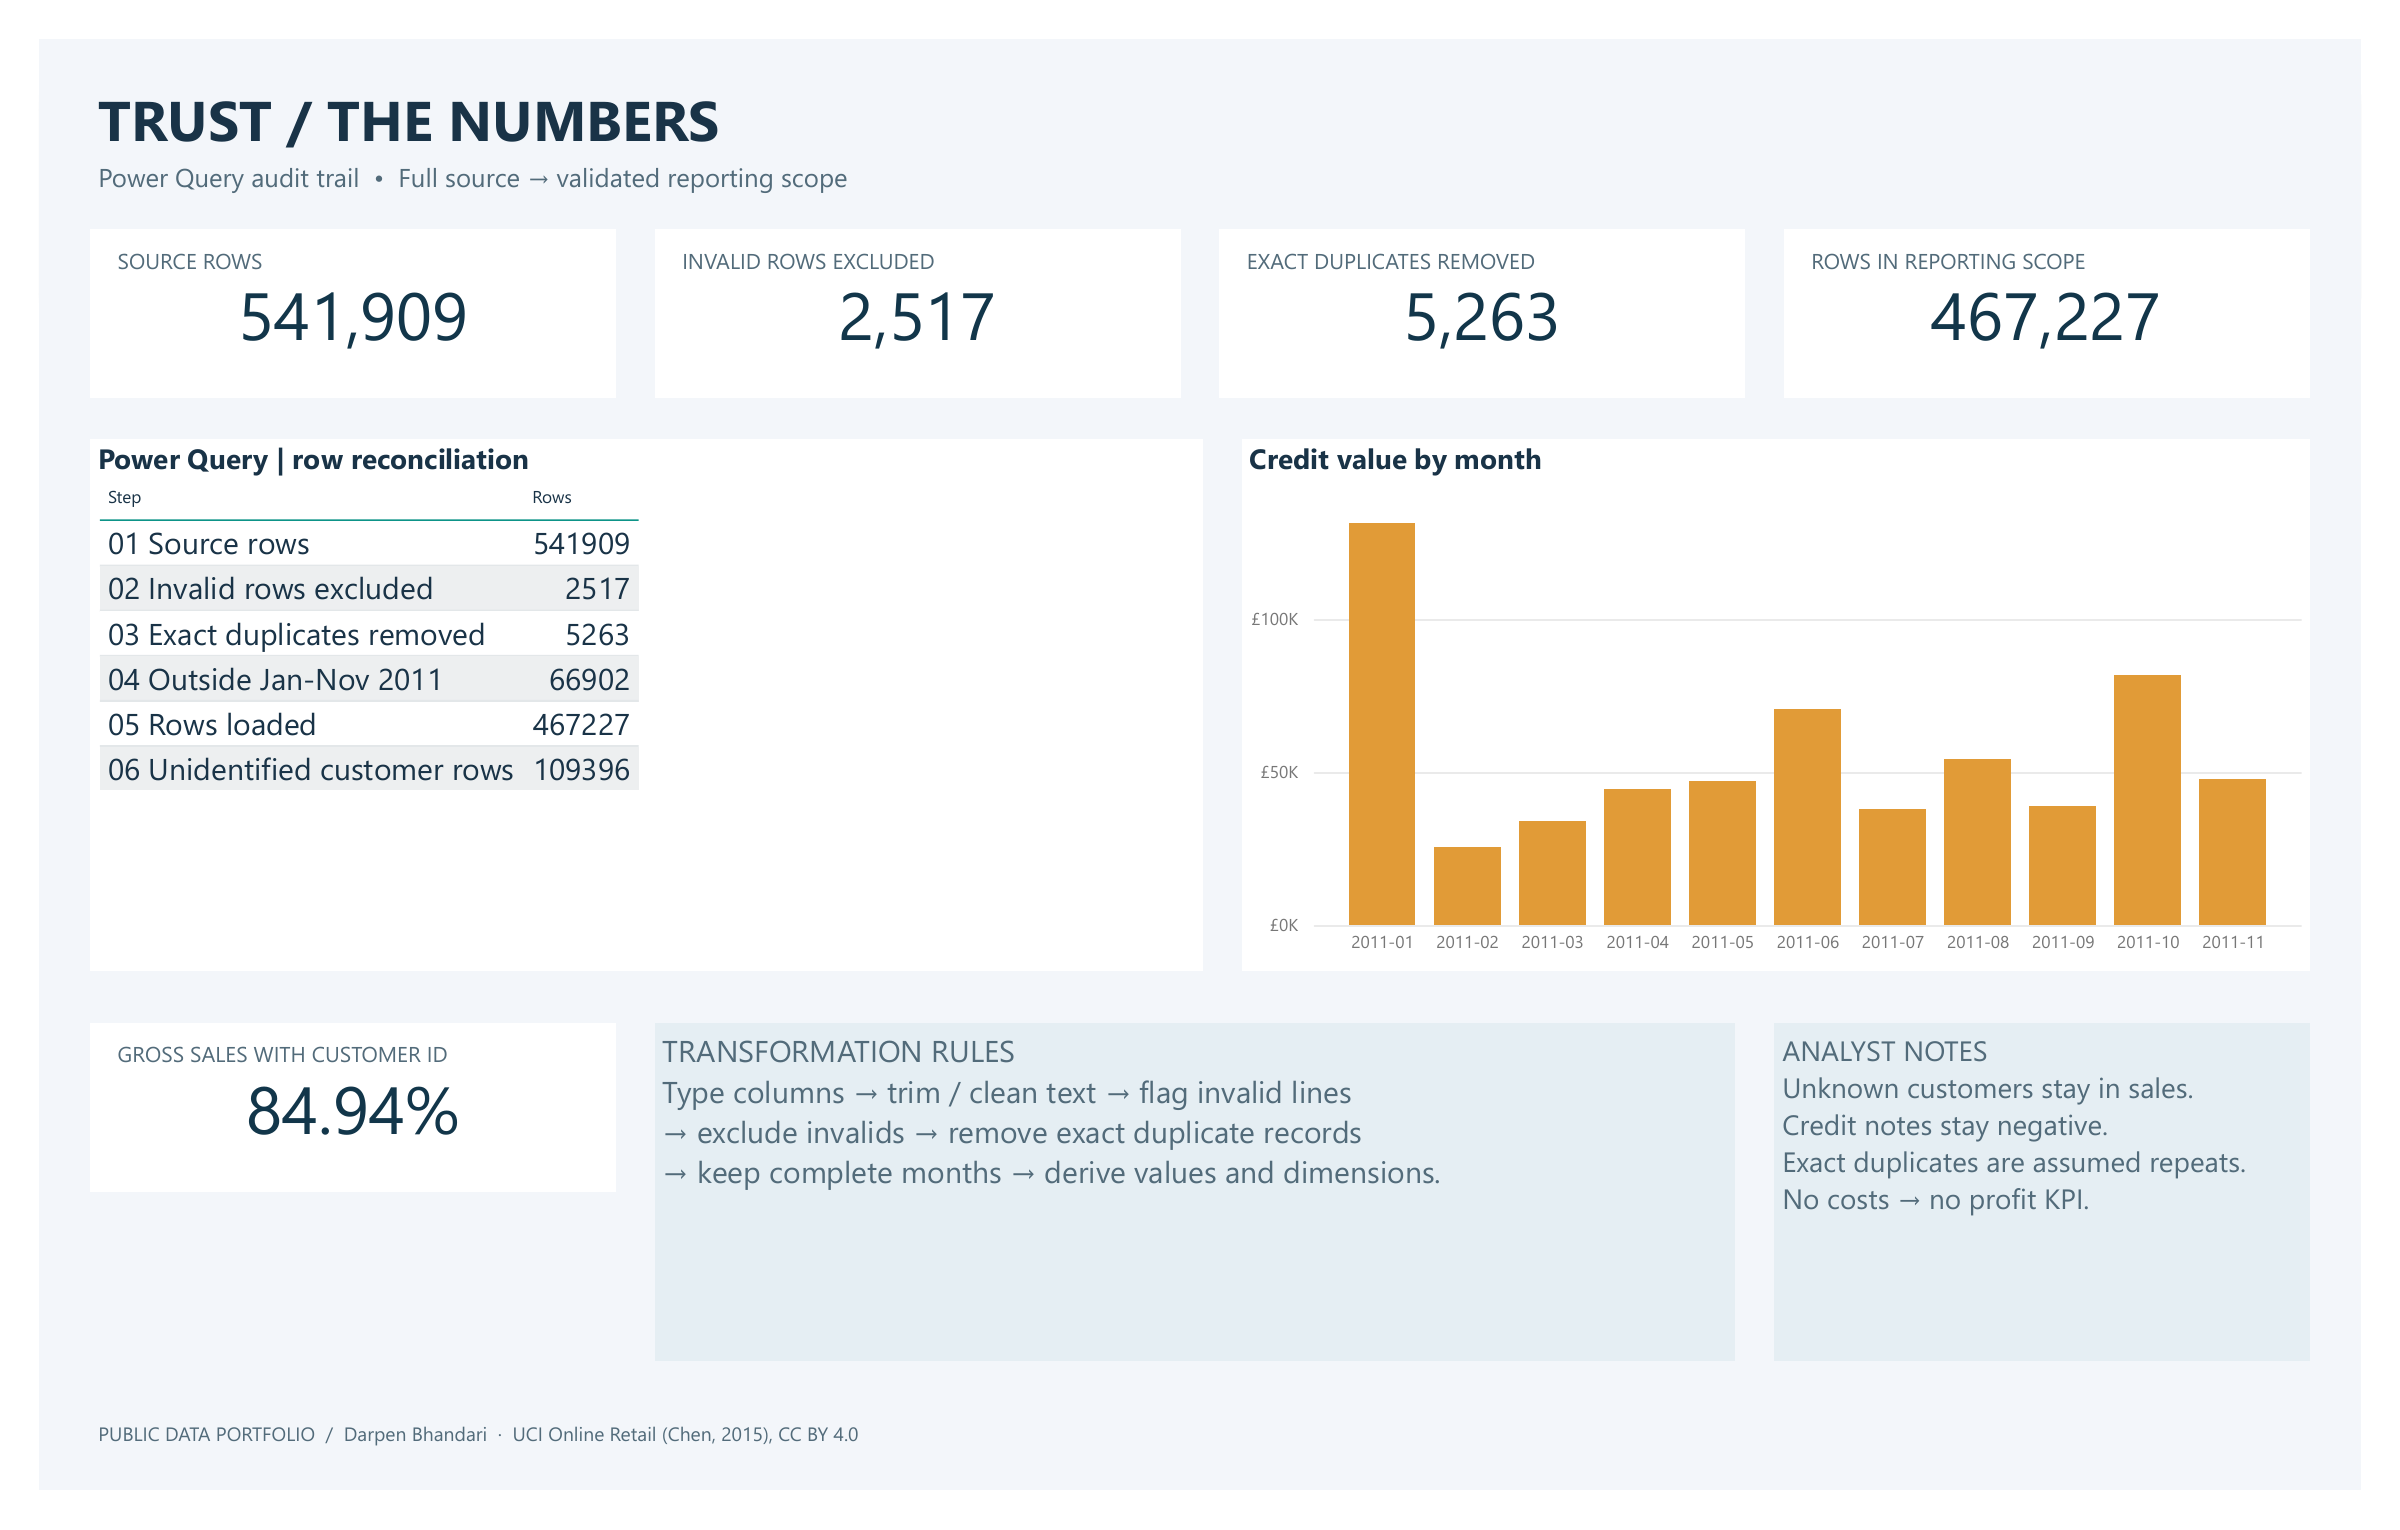

This screenshot's page, from the dashboard's own definition file:
{"tool":"powerbi","page":{"name":"02 · Data quality","canvas":[1440,900],"ordinal":1},"visuals":[{"type":"textbox","box":[32,22,1100,65],"z":4},{"type":"textbox","box":[32,70,1180,43],"z":5},{"type":"textbox","box":[32,850,1370,46],"z":6},{"type":"card","fields":{"Values":["FactSales.Source Rows Display"]},"box":[32,118,326,105],"z":22},{"type":"textbox","box":[44,123,302,40],"z":23},{"type":"card","fields":{"Values":["FactSales.Invalid Rows Display"]},"box":[382,118,326,105],"z":24},{"type":"textbox","box":[394,123,302,40],"z":25},{"type":"card","fields":{"Values":["FactSales.Duplicates Removed Display"]},"box":[732,118,326,105],"z":26},{"type":"textbox","box":[744,123,302,40],"z":27},{"type":"card","fields":{"Values":["FactSales.Rows Loaded Display"]},"box":[1082,118,326,105],"z":28},{"type":"textbox","box":[1094,123,302,40],"z":29},{"type":"tableEx","title":"Power Query | row reconciliation","fields":{"Values":["QualityAudit.Step","QualityAudit.Rows"]},"box":[32,248,690,330],"z":30},{"type":"clusteredColumnChart","title":"Credit value by month","fields":{"Category":["DimDate.Month"],"Y":["FactSales.Credit Value"]},"box":[746,248,662,330],"z":31},{"type":"card","fields":{"Values":["FactSales.Identified Sales Share Display"]},"box":[32,610,326,105],"z":32},{"type":"textbox","box":[44,615,302,40],"z":33},{"type":"textbox","box":[382,610,670,210],"z":34},{"type":"textbox","box":[1076,610,332,210],"z":35}]}

Visuals, with their boxes in screenshot pixels (x1, y1, x2, y2), scaled from the page's 1440x900 canvas onto the 2400x1530 screenshot:
textbox: (53, 37, 1887, 148)
textbox: (53, 119, 2020, 192)
textbox: (53, 1445, 2337, 1523)
card - FactSales.Source Rows Display: (53, 201, 597, 379)
textbox: (73, 209, 577, 277)
card - FactSales.Invalid Rows Display: (637, 201, 1180, 379)
textbox: (657, 209, 1160, 277)
card - FactSales.Duplicates Removed Display: (1220, 201, 1763, 379)
textbox: (1240, 209, 1743, 277)
card - FactSales.Rows Loaded Display: (1803, 201, 2347, 379)
textbox: (1823, 209, 2327, 277)
"Power Query | row reconciliation" tableEx: (53, 422, 1203, 983)
"Credit value by month" clusteredColumnChart: (1243, 422, 2347, 983)
card - FactSales.Identified Sales Share Display: (53, 1037, 597, 1216)
textbox: (73, 1046, 577, 1114)
textbox: (637, 1037, 1753, 1394)
textbox: (1793, 1037, 2347, 1394)
